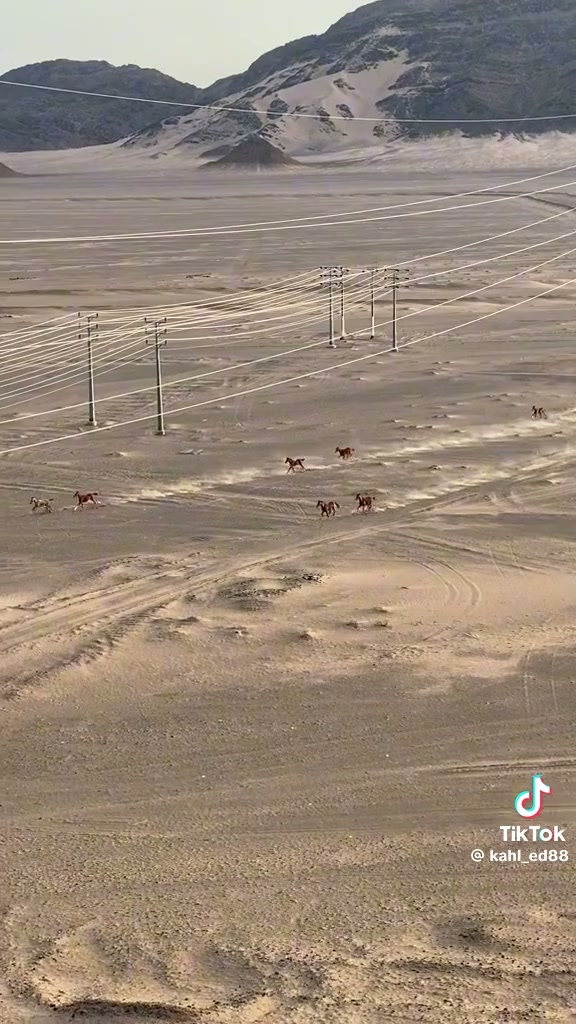animal: (74, 491, 98, 509), (316, 500, 339, 517), (356, 493, 375, 512), (30, 497, 53, 512), (285, 457, 304, 472), (335, 446, 354, 459), (532, 406, 546, 418)
vehicle_track: (0, 482, 487, 654), (197, 466, 540, 587), (0, 571, 190, 654), (0, 611, 147, 699), (397, 529, 491, 562), (435, 560, 481, 607), (415, 759, 533, 775), (415, 562, 458, 603), (522, 631, 541, 714)
